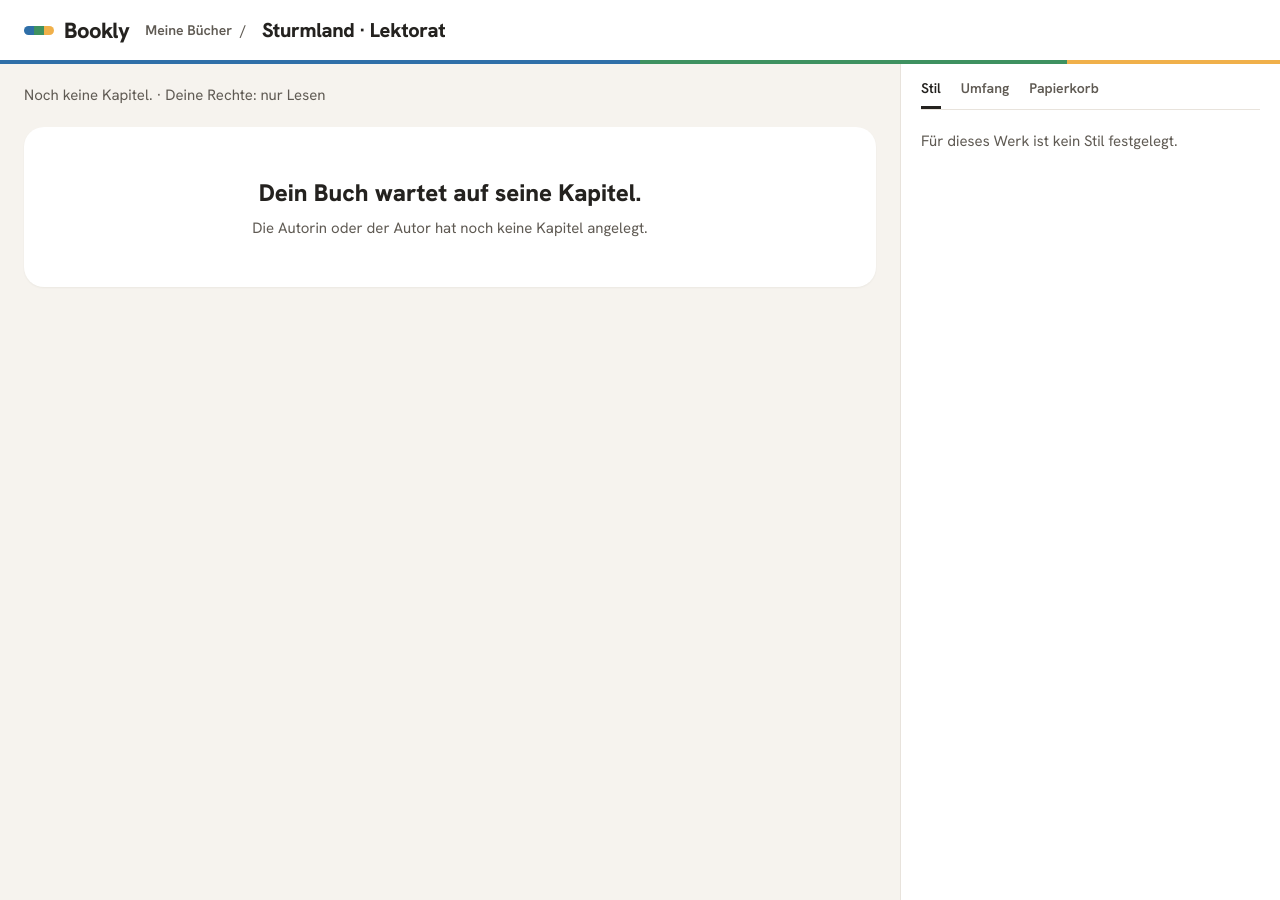
LengthPanel › tells reviewers when no range is set
Click the tab "Umfang" at (985, 88), box [961,68,1009,109]
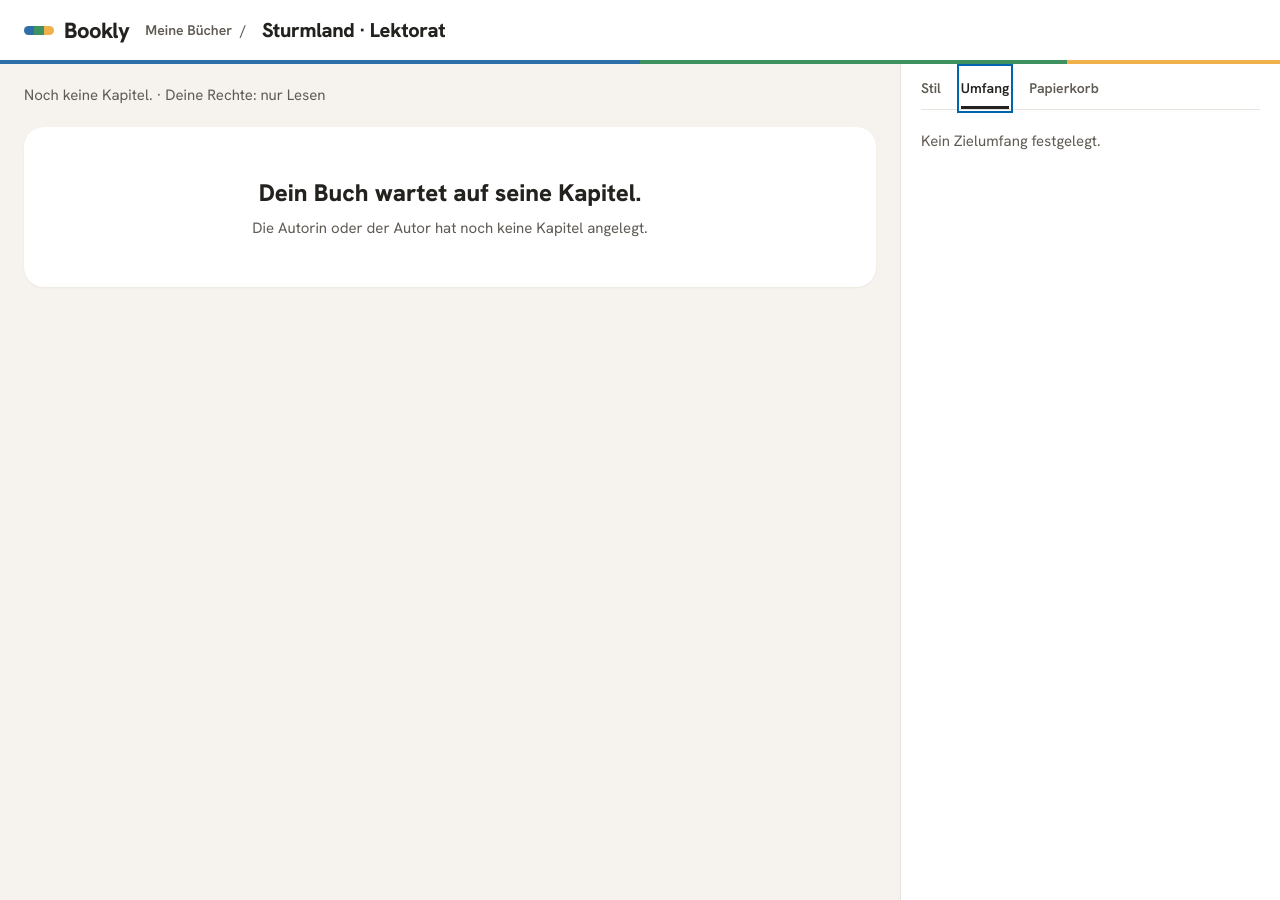
Check: the text "Kein Zielumfang festgelegt." is shown, box [921,131,1101,151]
